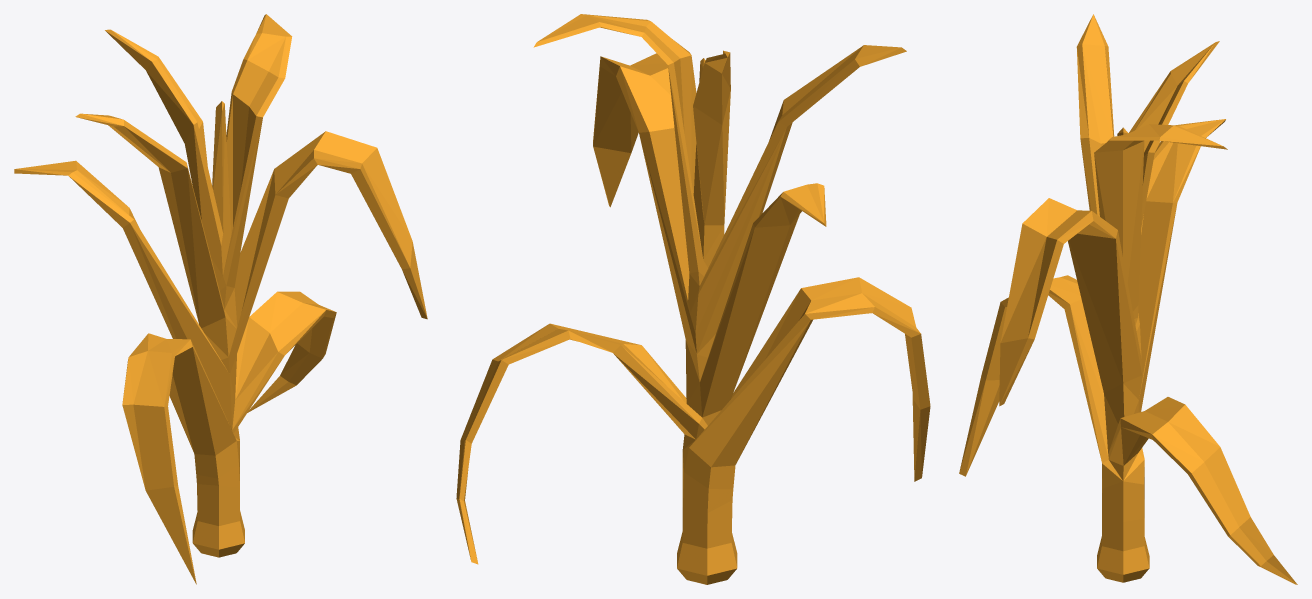
File: SM_Leek_Mature_B.fbx
The picture shows the model from 3 angles, left to right: view 1: azimuth 30°, elevation 25°; view 2: azimuth 150°, elevation 25°; view 3: azimuth 270°, elevation 25°; orthographic projection. The views are drawn at different scales.
Parts seen in each view (by area): view 1: leek-mature-b; view 2: leek-mature-b; view 3: leek-mature-b.
Part boxes in pixels (x1,y1,x2,y2): leek-mature-b: (14, 14, 427, 584); leek-mature-b: (456, 14, 930, 584); leek-mature-b: (959, 14, 1297, 584).
Bounding box in the file's own units: 0.5506 × 0.8303 × 0.5056.
